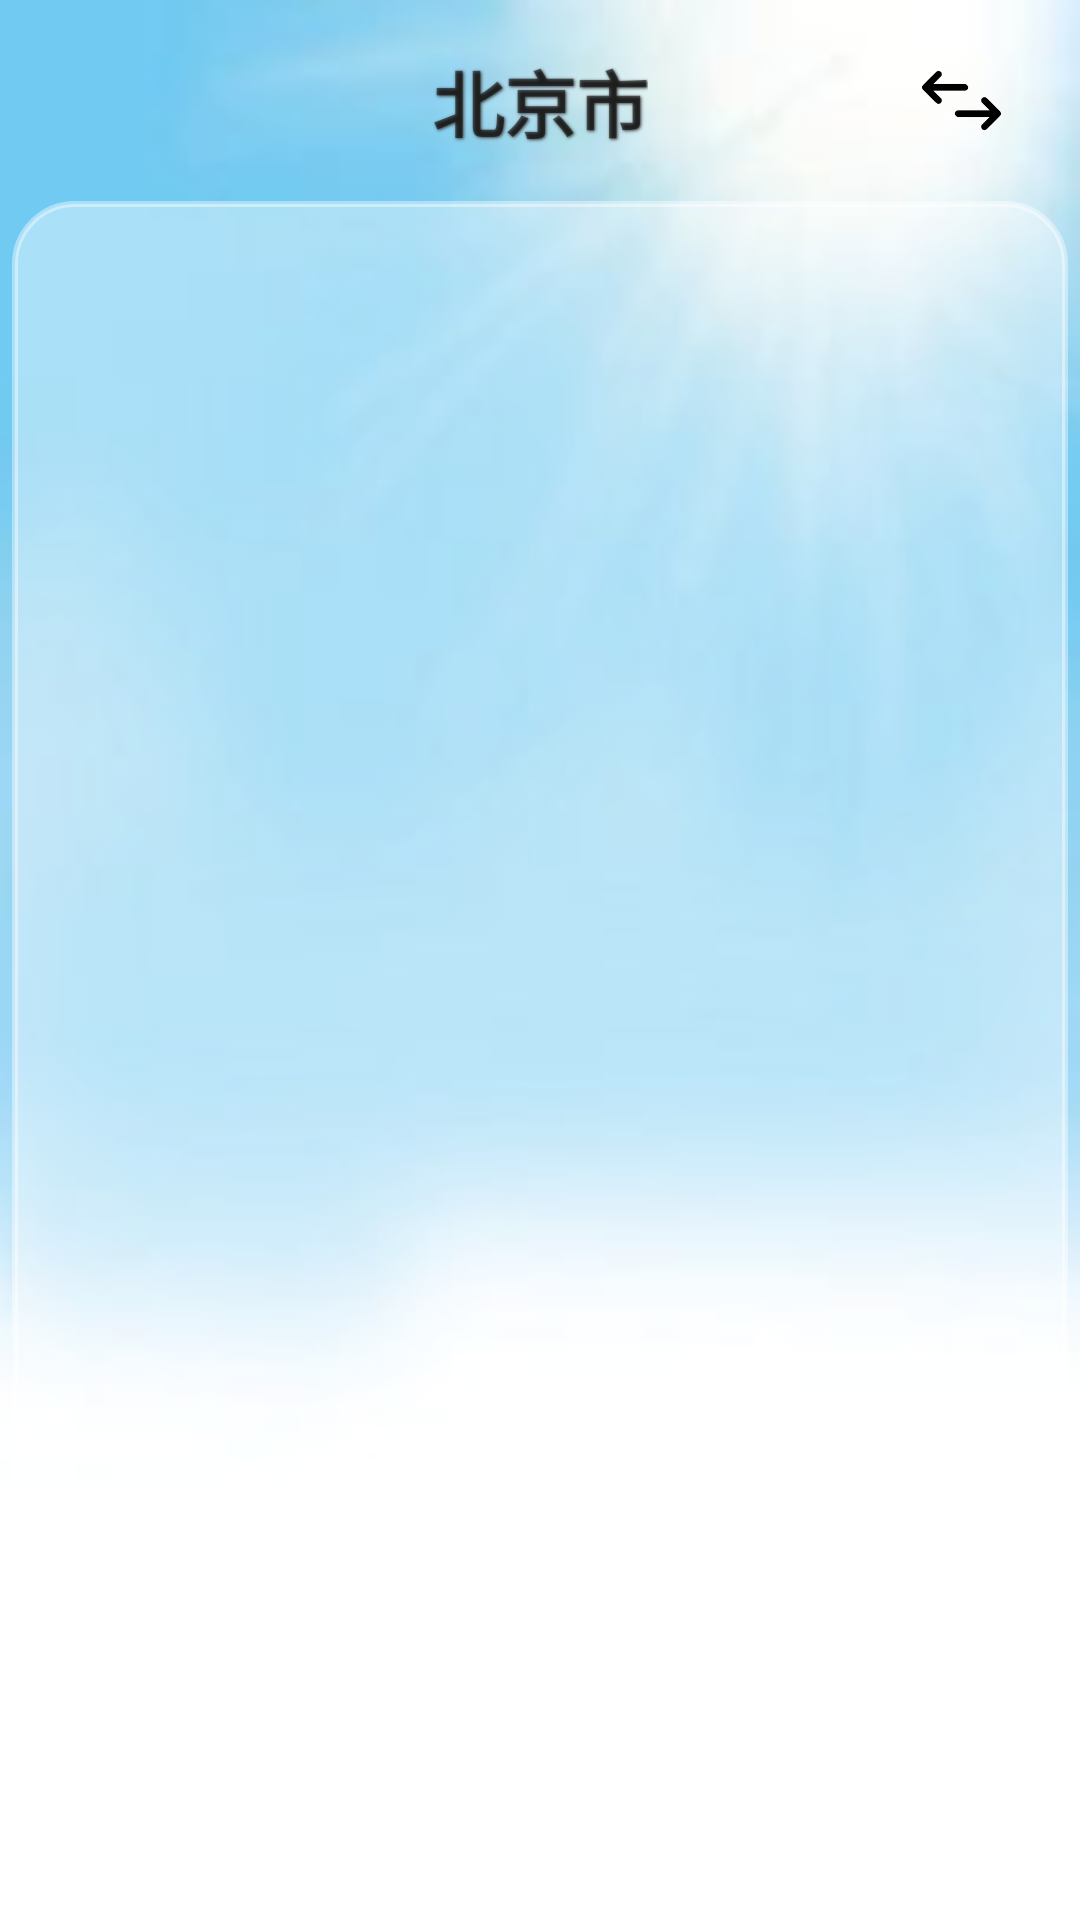

Screen size 1080x1920. Icon name, then its box in pixels as (x1, y1, x2, y2):
change city: (922, 71, 1001, 131)
